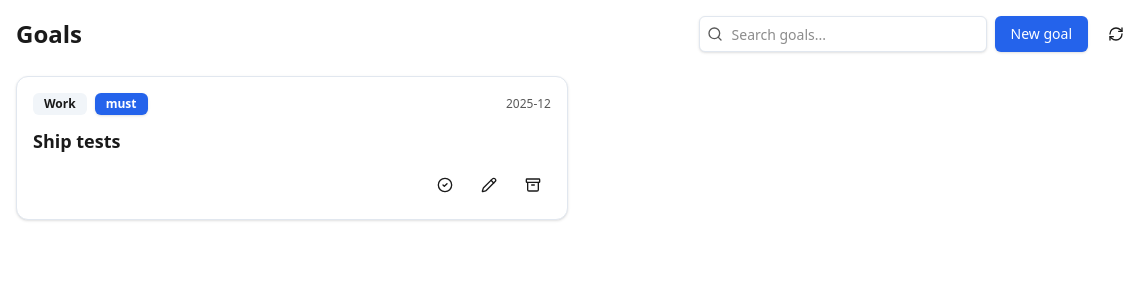
GoalDashboard › shows search results count when searching
The width and height of the screenshot is (1140, 282).
Type "Ship" into the field with placeholder "Search goals..." at (842, 34), box [698,16,986,52]
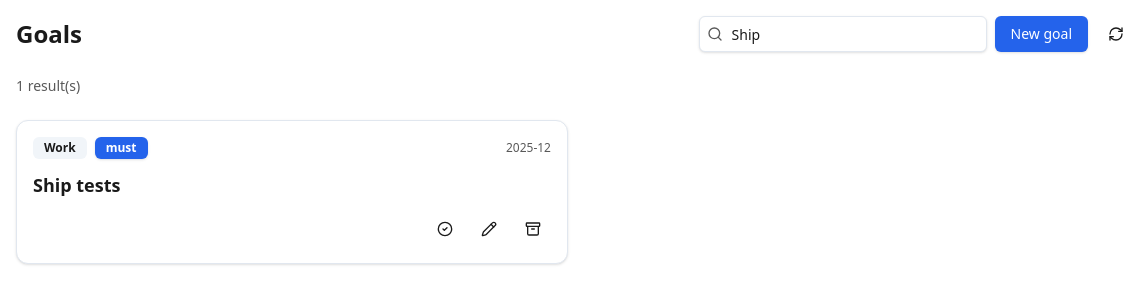
expect the text "1 result(s)" is shown: met, box [16,76,80,95]
